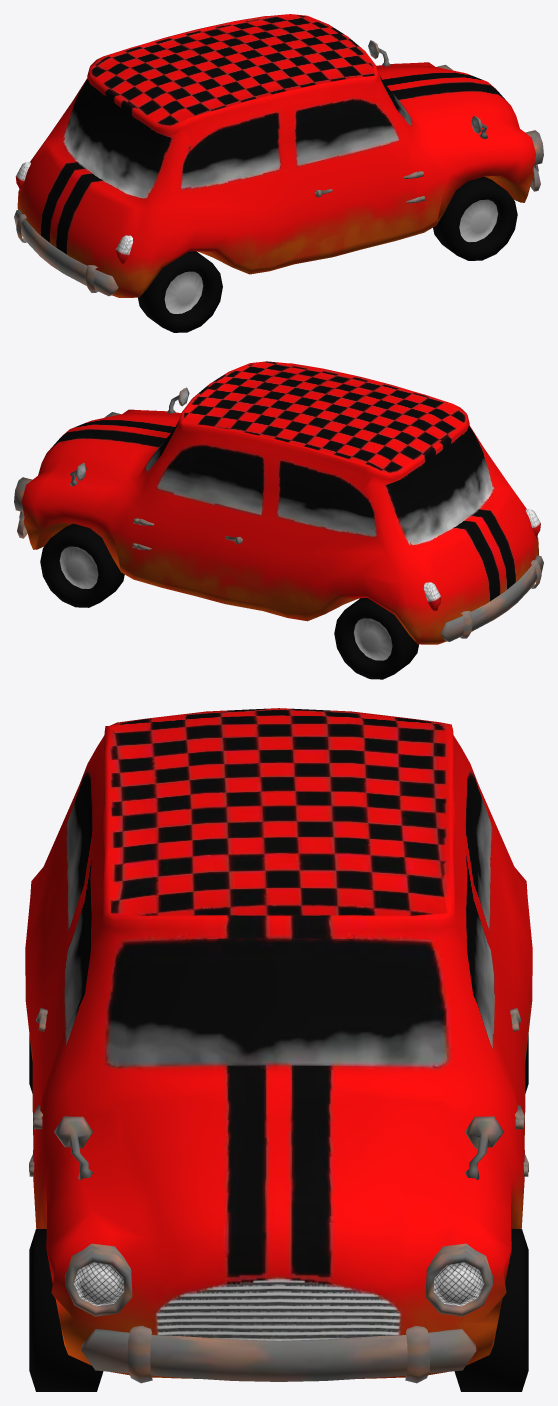
File: carred.glb
The picture shows the model from 3 angles, top to bottom: view 1: azimuth 30°, elevation 25°; view 2: azimuth 150°, elevation 25°; view 3: azimuth 270°, elevation 25°; orthographic projection. The views are drawn at different scales.
Visible parts, largest first — view 1: carred; view 2: carred; view 3: carred.
Boxes of the visible parts, x1,y1,x2,y2 form: carred: [14, 14, 543, 332]; carred: [14, 361, 543, 679]; carred: [25, 708, 532, 1391].
Size of the model in its own units: 8.13 by 3.46 by 3.93.
Materials: 1 (1 with a texture image).
